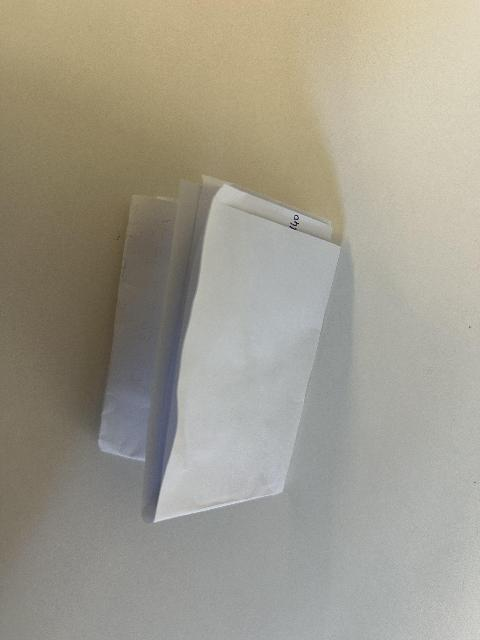Kagit: (97, 175, 341, 528)
